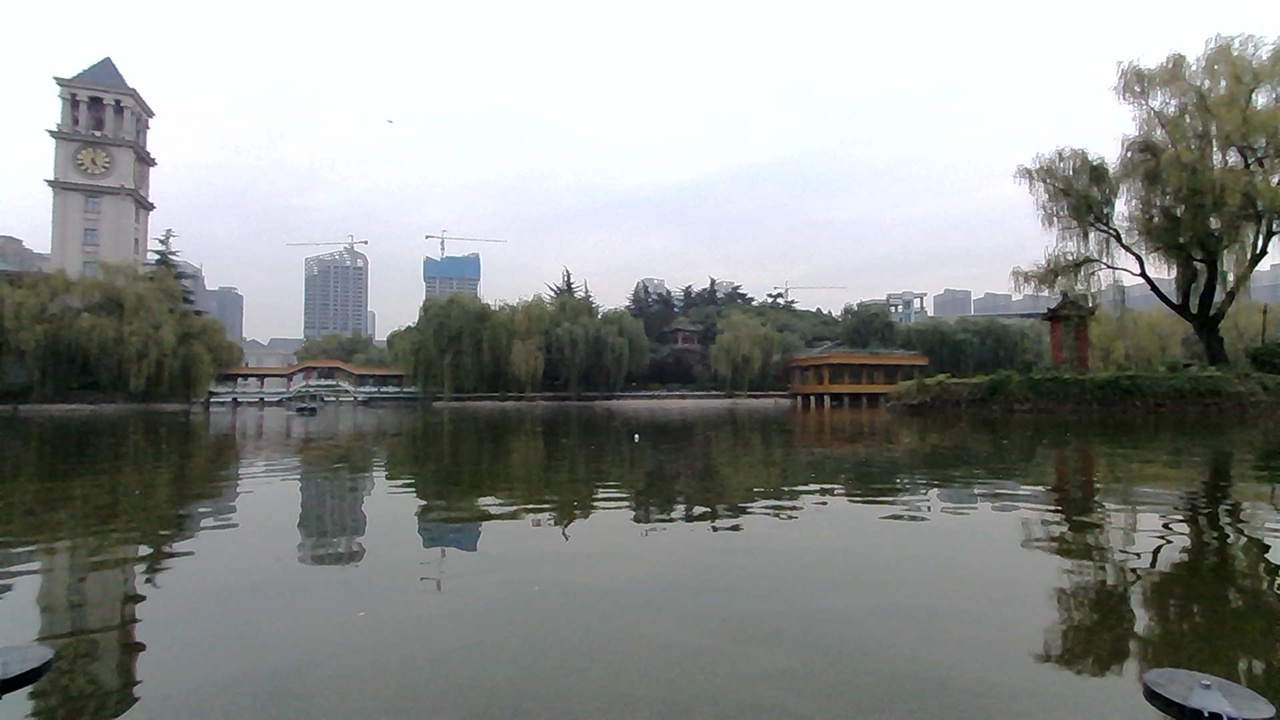bottle: (620, 423, 664, 456)
